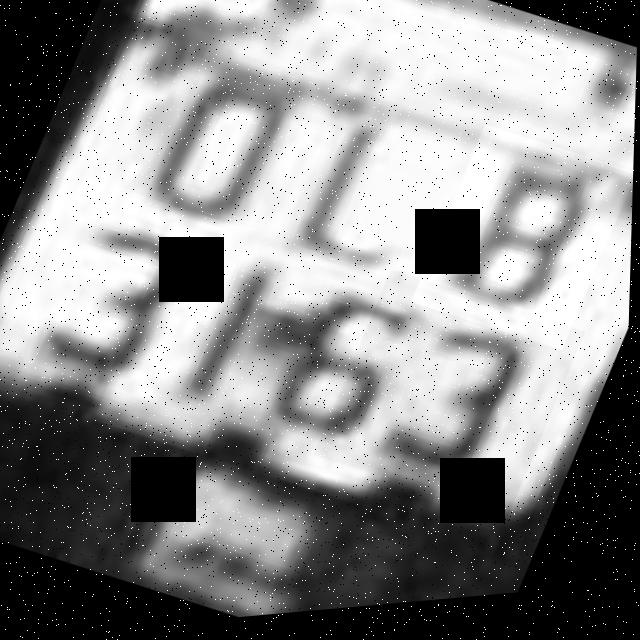3: (314, 263, 589, 540), (0, 159, 253, 425)
6: (188, 227, 475, 506)
B: (411, 122, 636, 371)
J: (249, 87, 475, 319)
O: (110, 31, 333, 277)
